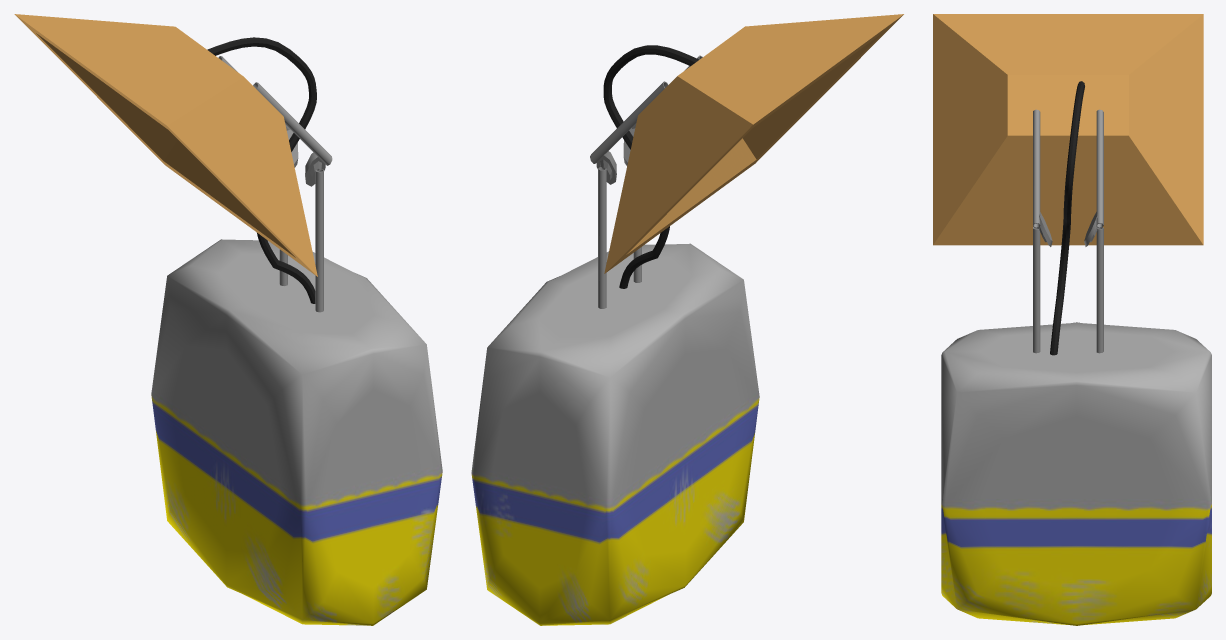
The model's file is SpotlightFinal.FBX.
3 views of the same model, side by side, from view 1: azimuth 30°, elevation 25°; view 2: azimuth 150°, elevation 25°; view 3: azimuth 270°, elevation 25° (orthographic). The views are drawn at different scales.
Visible parts, largest first — view 1: Power Unit, Box001, Line001, Tube002, Tube004; view 2: Power Unit, Box001, Line001, Tube001, Tube003; view 3: Power Unit, Box001, Line001, Tube001, Tube002, Tube003, Tube004.
Part boxes in pixels (x1,y1,x2,y2): Power Unit: (151,239,442,625); Box001: (14,14,317,276); Line001: (207,37,316,303); Tube002: (315,169,323,312); Tube004: (253,82,332,165); Power Unit: (471,243,759,625); Box001: (604,14,903,273); Line001: (603,45,699,288); Tube001: (598,167,606,308); Tube003: (590,81,668,163); Power Unit: (941,322,1211,625); Box001: (933,14,1203,245); Line001: (1050,81,1084,355); Tube001: (1096,227,1103,353); Tube002: (1033,227,1040,353); Tube003: (1096,109,1103,227); Tube004: (1033,109,1040,227).
Size of the model in its own units: 15.95 by 30.09 by 15.47.
